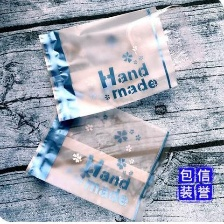snack: (19, 80, 173, 220), (32, 1, 184, 124)
